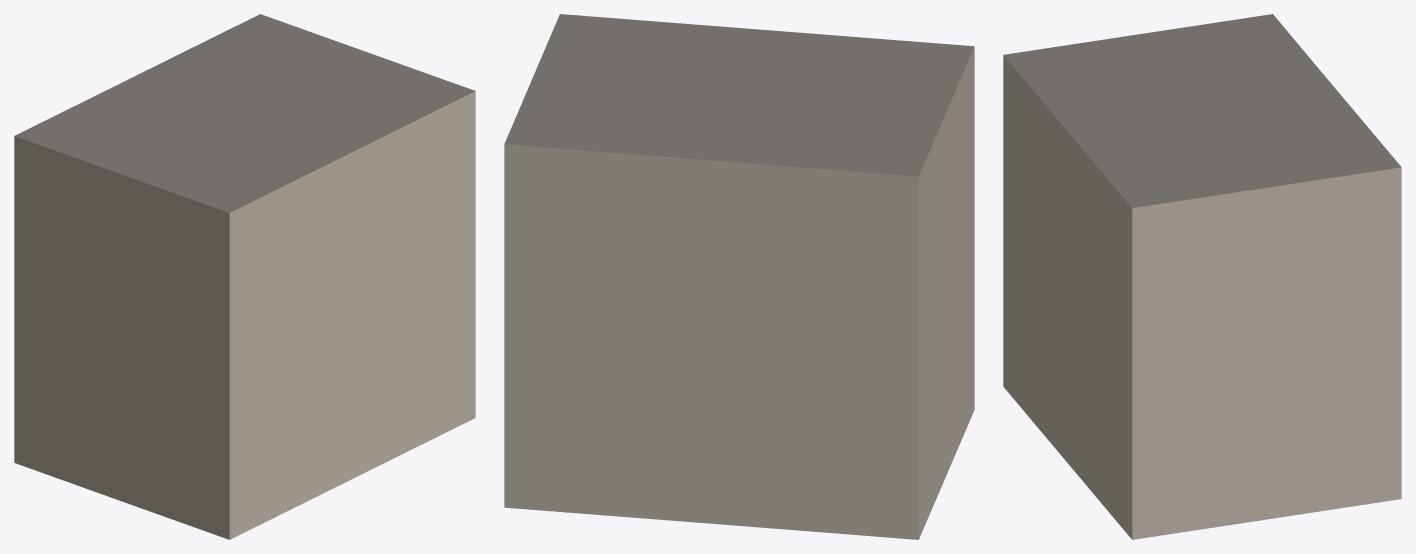
3 views of the same model, side by side, from view 1: azimuth 30°, elevation 25°; view 2: azimuth 150°, elevation 25°; view 3: azimuth 270°, elevation 25° (orthographic). The views are drawn at different scales.
Parts seen in each view (by area): view 1: HP-w1435372646; view 2: HP-w1435372646; view 3: HP-w1435372646.
Part boxes in pixels (x1,y1,x2,y2): HP-w1435372646: (14, 14, 475, 539); HP-w1435372646: (504, 14, 974, 539); HP-w1435372646: (1003, 14, 1401, 539).
Bounding box in the file's own units: 22.6 × 18 × 19.59.
